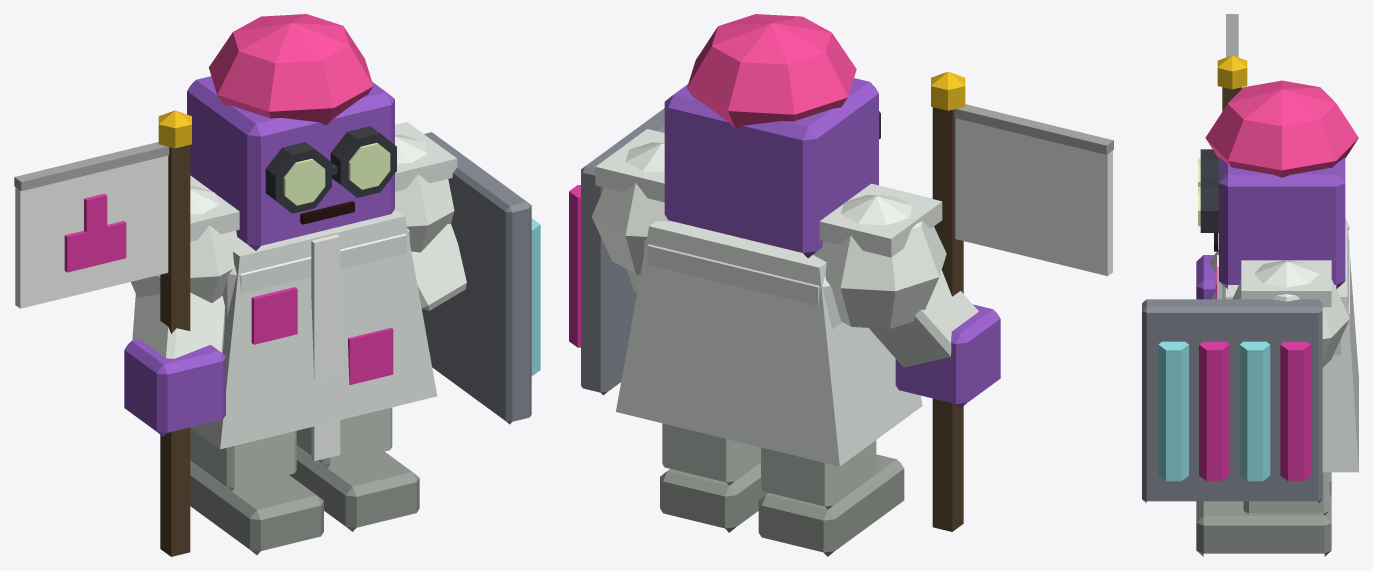
File: r11_mini_mutant_commander.glb
3 renders of one model, left to right at view 1: azimuth 30°, elevation 25°; view 2: azimuth 150°, elevation 25°; view 3: azimuth 270°, elevation 25°, orthographic. The views are drawn at different scales.
Visible parts, largest first — view 1: r11_mini_mutant_commander_mesh; view 2: r11_mini_mutant_commander_mesh; view 3: r11_mini_mutant_commander_mesh.
Part boxes in pixels (x1,y1,x2,y2): r11_mini_mutant_commander_mesh: [14, 14, 540, 556]; r11_mini_mutant_commander_mesh: [569, 14, 1113, 556]; r11_mini_mutant_commander_mesh: [1142, 14, 1358, 556].
Bounding box in the file's own units: 4.85 × 4.6 × 2.08.
Materials: 1 (1 with a texture image).
